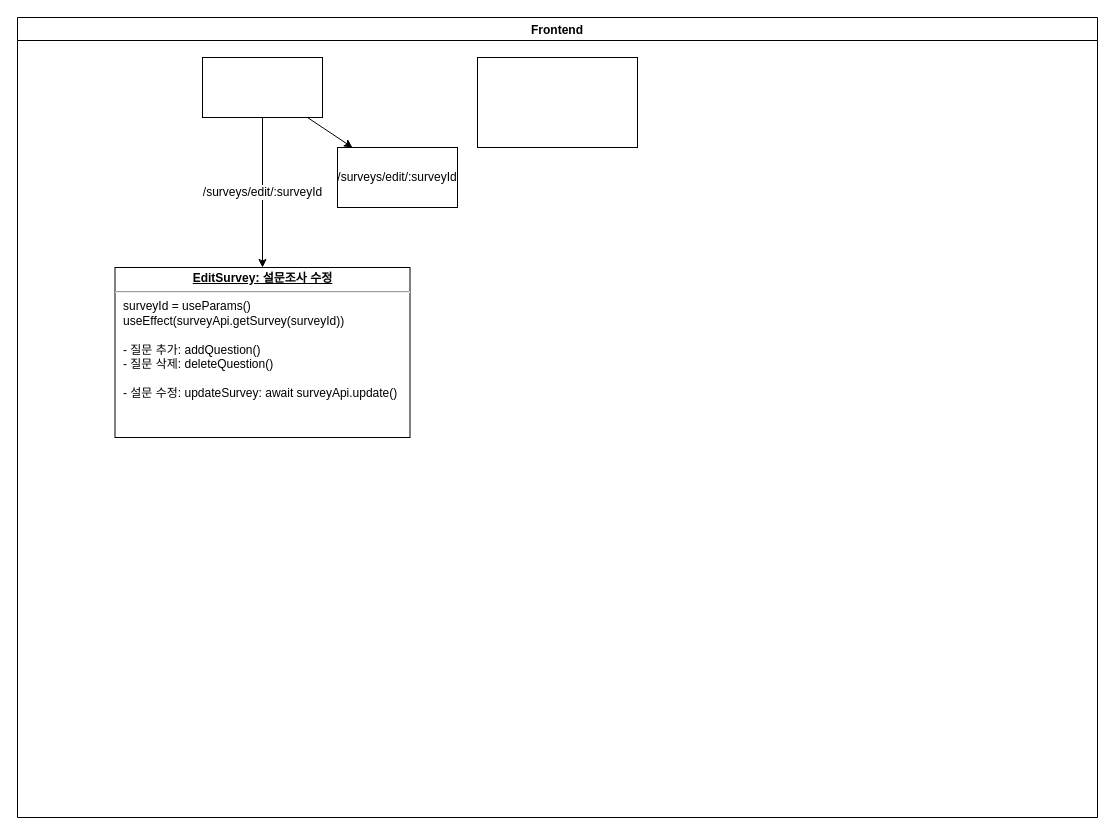
This 1115x835 diagram has some shape labels left out. Here are the shapes that lost their labels. From the top down, the centre of each, then its label:
At [262,87]: "Routes".
At [557,102]: "survey.api getSuvey() field2 = value2 field3 = value3".
